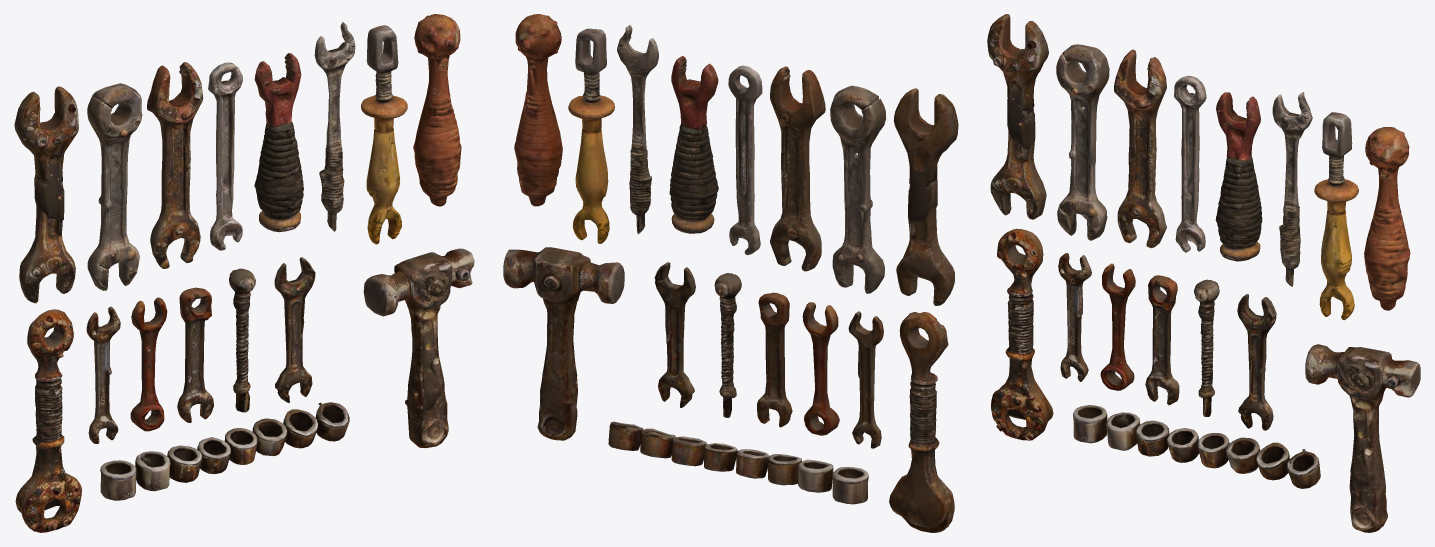
File: tools.glb
3 views of the same model, side by side, from view 1: azimuth 30°, elevation 25°; view 2: azimuth 150°, elevation 25°; view 3: azimuth 330°, elevation 25° (orthographic). The views are drawn at different scales.
Visible parts, largest first — view 1: tools; view 2: tools; view 3: tools.
Boxes of the visible parts, box(x1,y1,x2,y2) form: tools: box(14, 14, 474, 532); tools: box(503, 14, 958, 532); tools: box(987, 14, 1420, 532).
Bounding box in the file's own units: 0.9794 × 0.9153 × 0.1417.
Materials: 1 (1 with a texture image).
